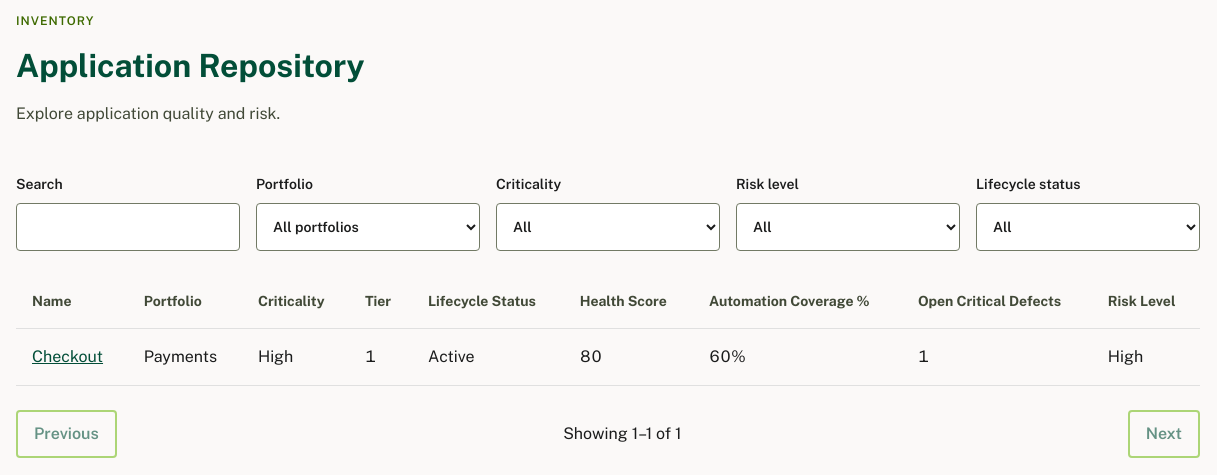
filters records and hides read-only actions
Step 1. Select "High" in the dropdown labelled "Criticality" → x=608, y=227, box [496, 203, 720, 251]
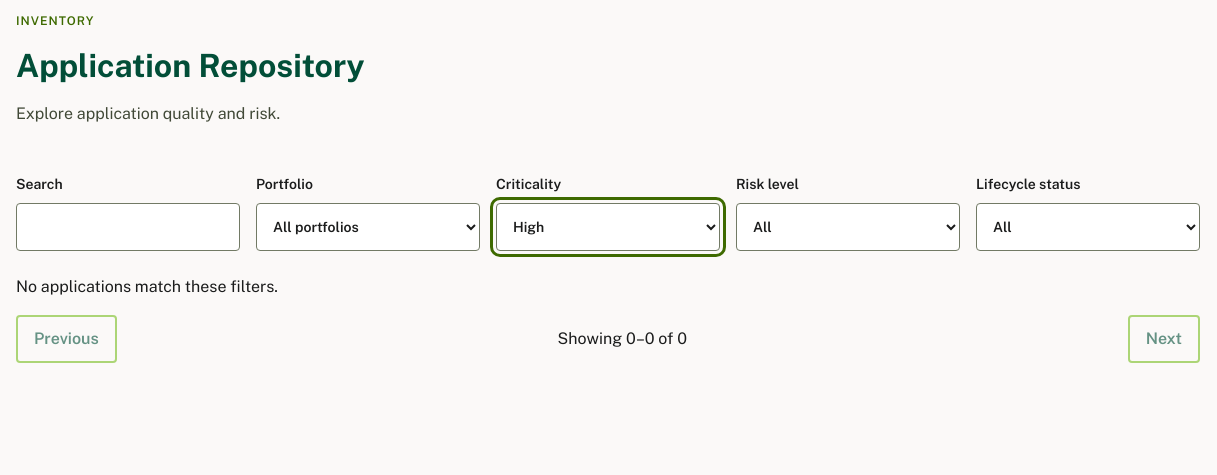
Check: the text "No applications match these filters." is shown, box [16, 277, 278, 296]
